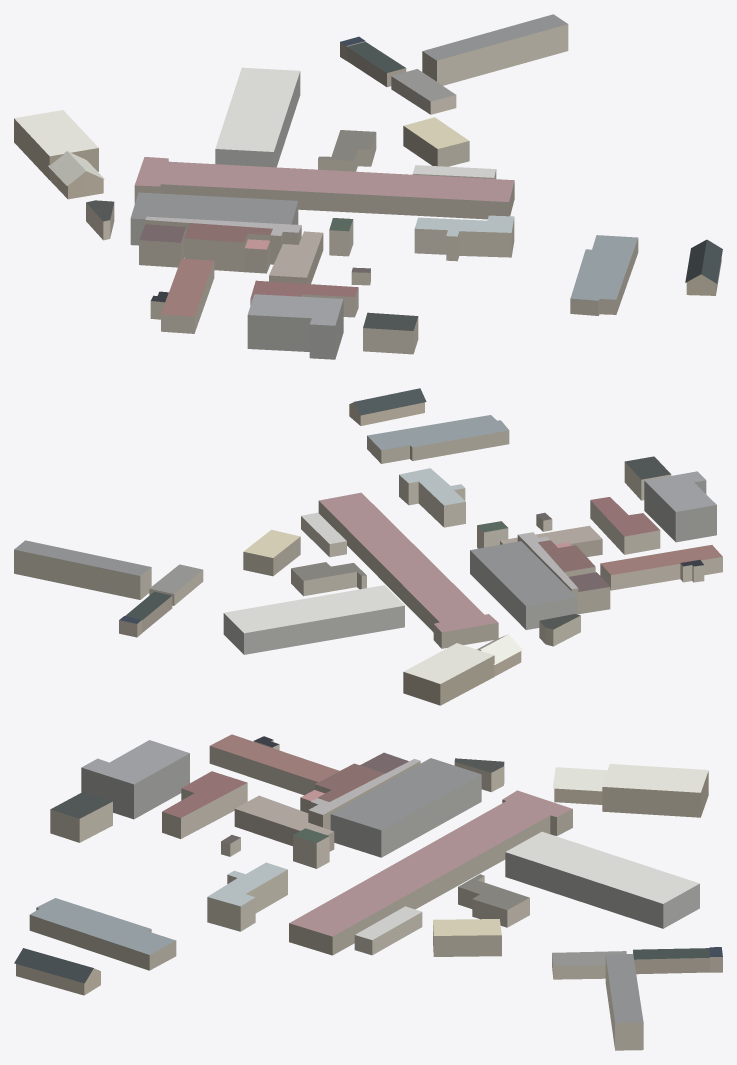
3 renders of one model, top to bottom at view 1: azimuth 30°, elevation 25°; view 2: azimuth 150°, elevation 25°; view 3: azimuth 270°, elevation 25°, orthographic. The views are drawn at different scales.
Parts seen in each view (by area): view 1: tuile; view 2: tuile; view 3: tuile.
Boxes of the visible parts, box(x1,y1,x2,y2) form: tuile: box(14, 14, 722, 359); tuile: box(14, 388, 722, 705); tuile: box(14, 734, 722, 1050).
Size of the model in its own units: 169 by 9.77 by 170.
